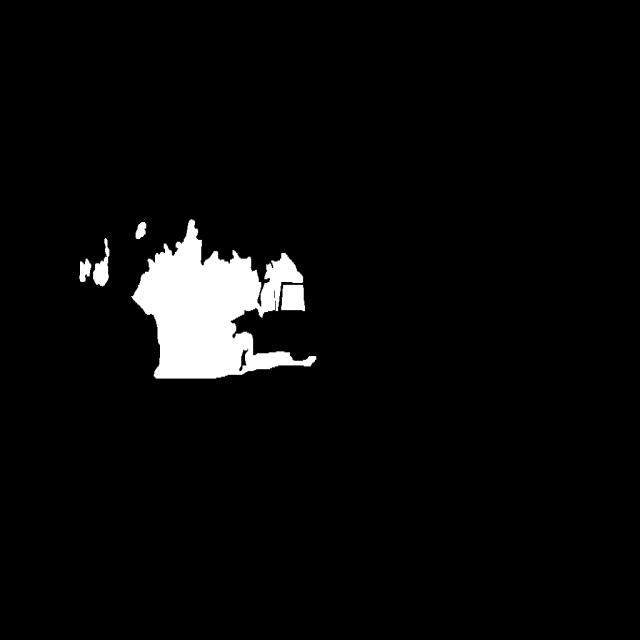fire: (54, 185, 388, 479)
